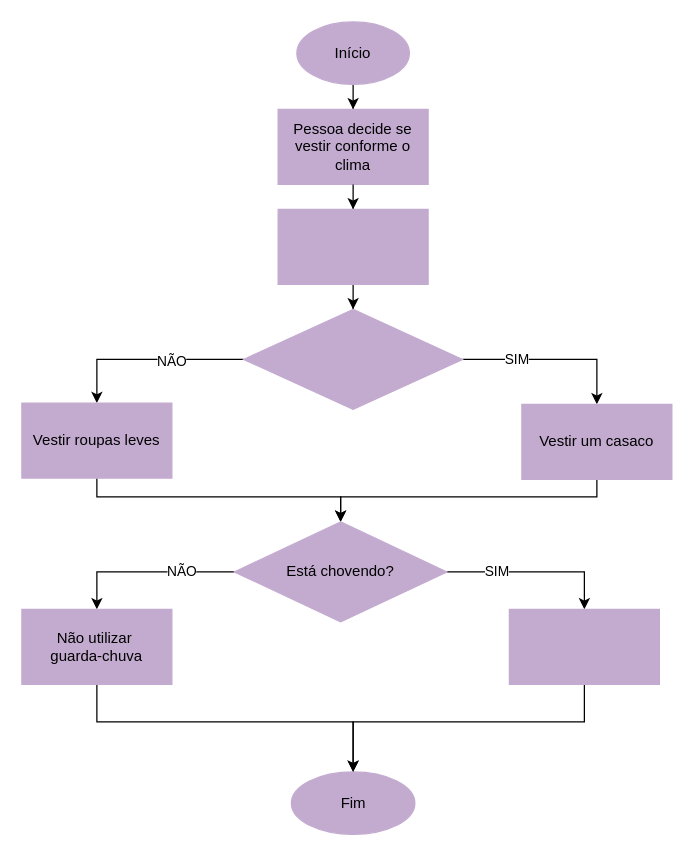
Image size: 694x856. Some labels were removed from this diagram. Each missing label, with the centre of its shape:
Está frio?: the point at 352,358
Utilizar guarda-chuva: the point at 583,646
Verificar o clima: the point at 352,246
